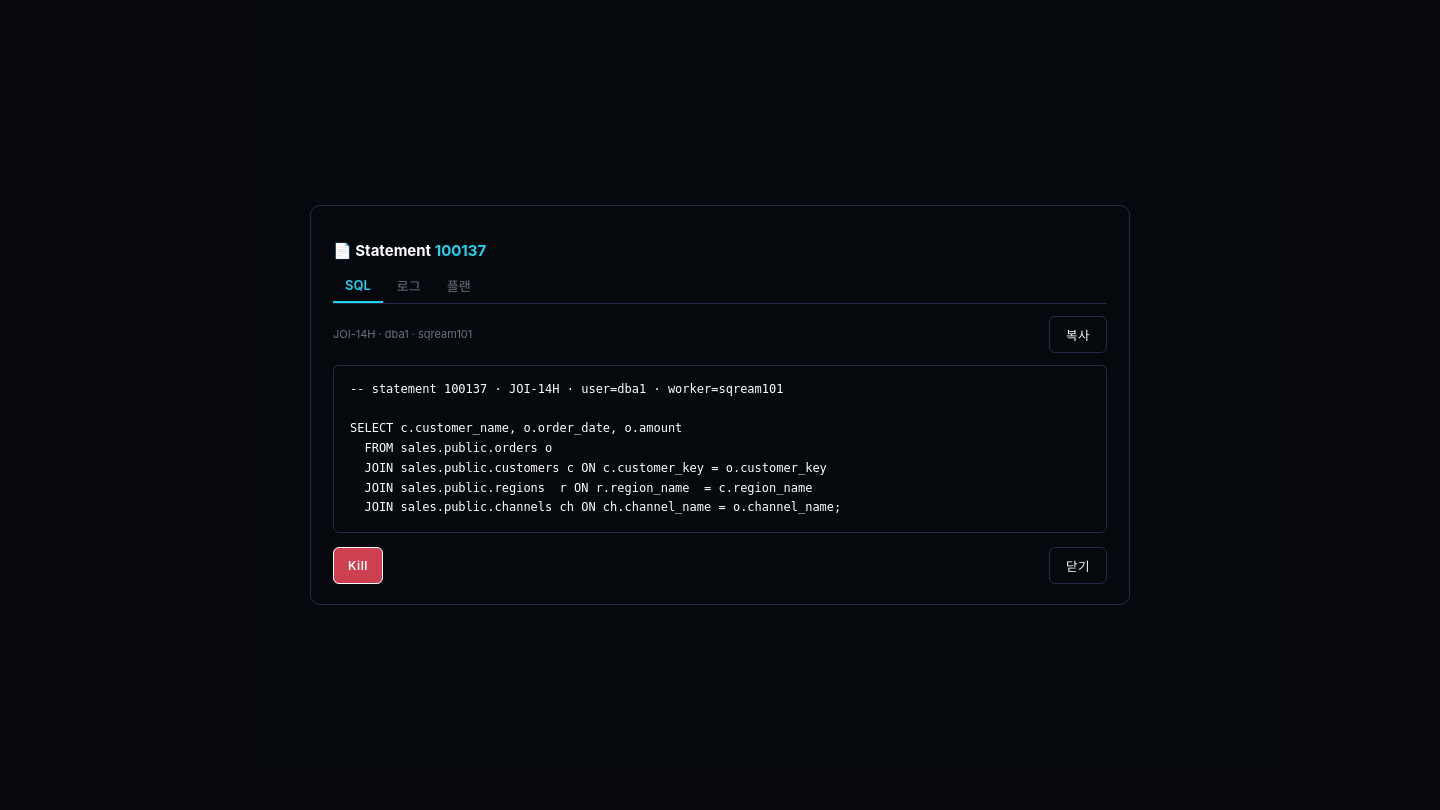
Test: 탭 › 로그 탭 — 생애주기 목업 로그, 화면에 목업 고지는 없다 (X12)
Click the tab "로그": (409, 286) [385, 270, 433, 303]
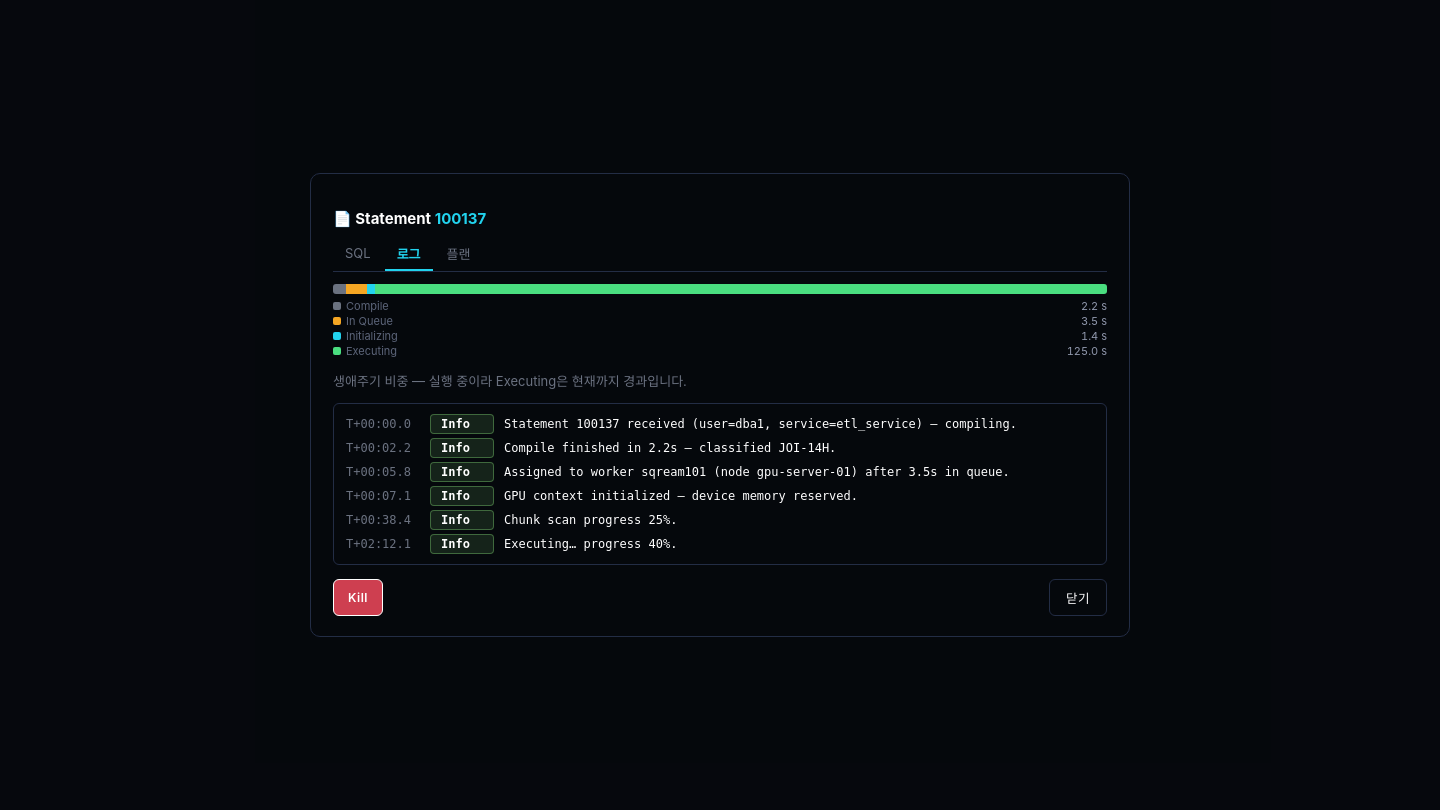
Expected: the panel named "로그" shows "sqream101", [504, 465, 1010, 479]
Now the panel named "로그" shows "Statement 100137 received", box [504, 417, 1017, 431]
